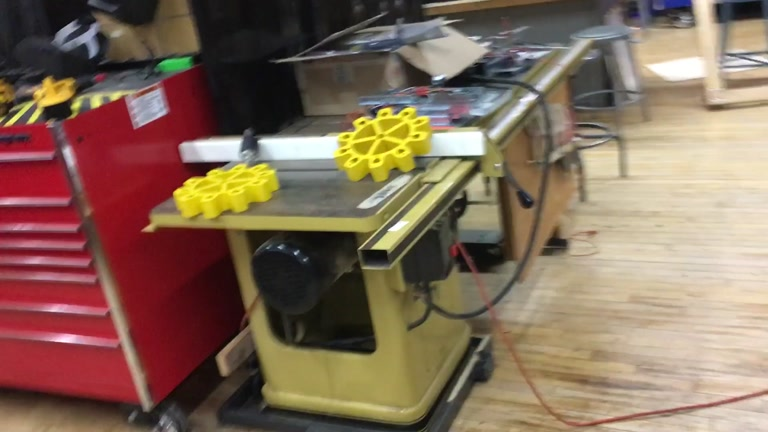gear: (335, 106, 433, 181), (172, 160, 281, 219)
